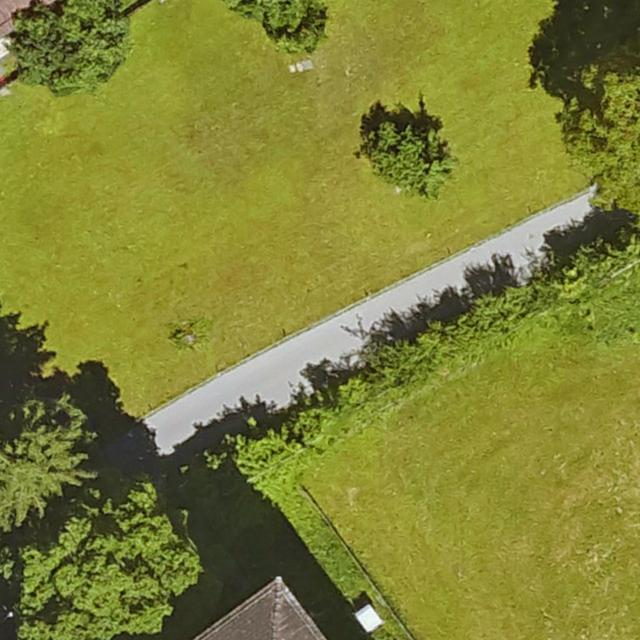tree: (14, 486, 202, 640), (557, 61, 640, 215), (0, 398, 94, 525), (13, 1, 120, 87), (365, 114, 440, 197), (238, 0, 331, 46)
